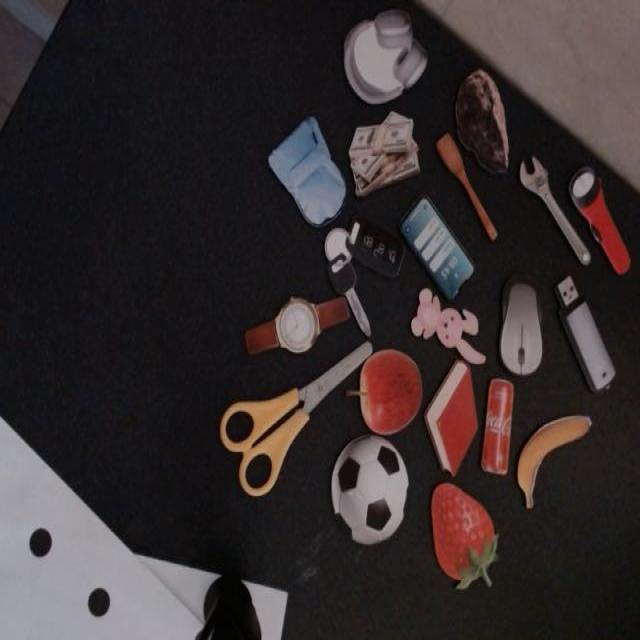Other Objects: (219, 340, 373, 496), (304, 198, 407, 336), (263, 110, 358, 242), (514, 151, 602, 267), (545, 270, 620, 398), (562, 158, 640, 280), (397, 193, 475, 301), (330, 437, 407, 544), (343, 8, 428, 104), (433, 129, 501, 247), (517, 416, 591, 509), (345, 348, 422, 435), (410, 287, 486, 365), (349, 112, 419, 196), (454, 68, 509, 173), (245, 297, 330, 354), (500, 280, 543, 375), (480, 377, 513, 475)
